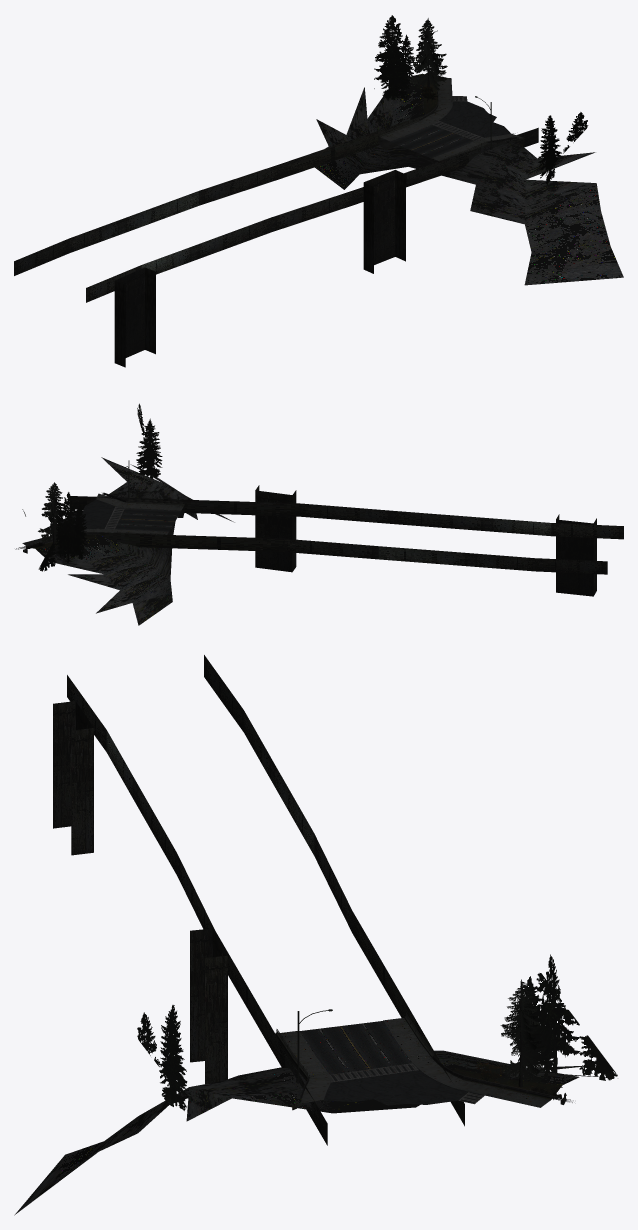
File: cell_14_1.gltf
The picture shows the model from 3 angles, top to bottom: view 1: azimuth 30°, elevation 25°; view 2: azimuth 150°, elevation 25°; view 3: azimuth 270°, elevation 25°; orthographic projection. The views are drawn at different scales.
Visible parts, largest first — view 1: cell_14_1; view 2: cell_14_1; view 3: cell_14_1.
Part boxes in pixels (left/top/right/bottom): cell_14_1: left=14, top=15, right=623, bottom=367; cell_14_1: left=15, top=403, right=623, bottom=625; cell_14_1: left=14, top=655, right=617, bottom=1215.
Size of the model in its own units: 184 by 45.89 by 111.
Materials: 23 (23 with a texture image).
